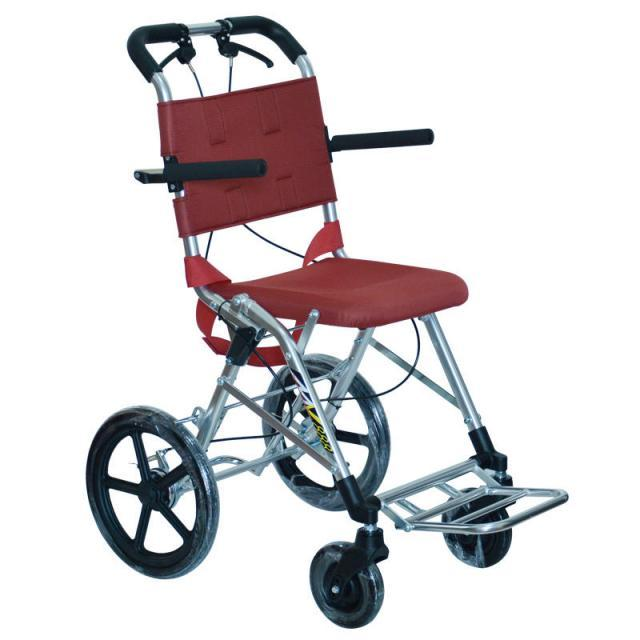wheelchair: (98, 15, 570, 640)
